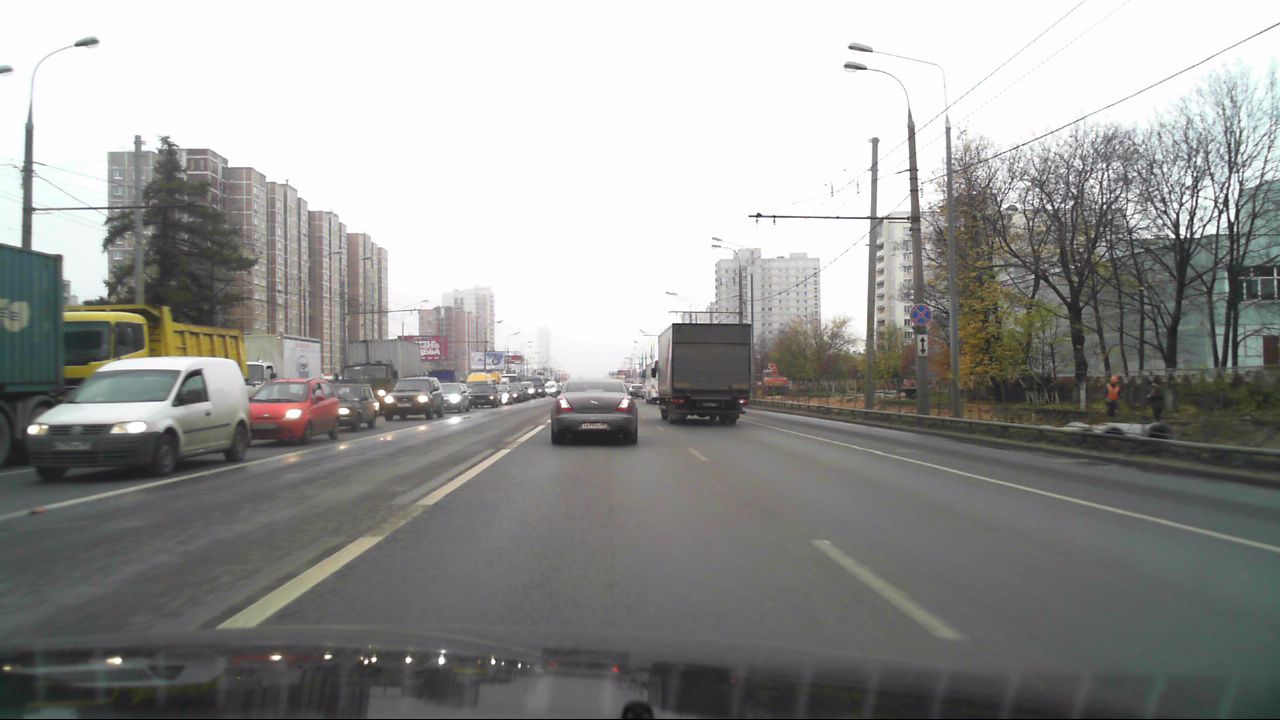No Parking: (910, 304, 932, 326)
